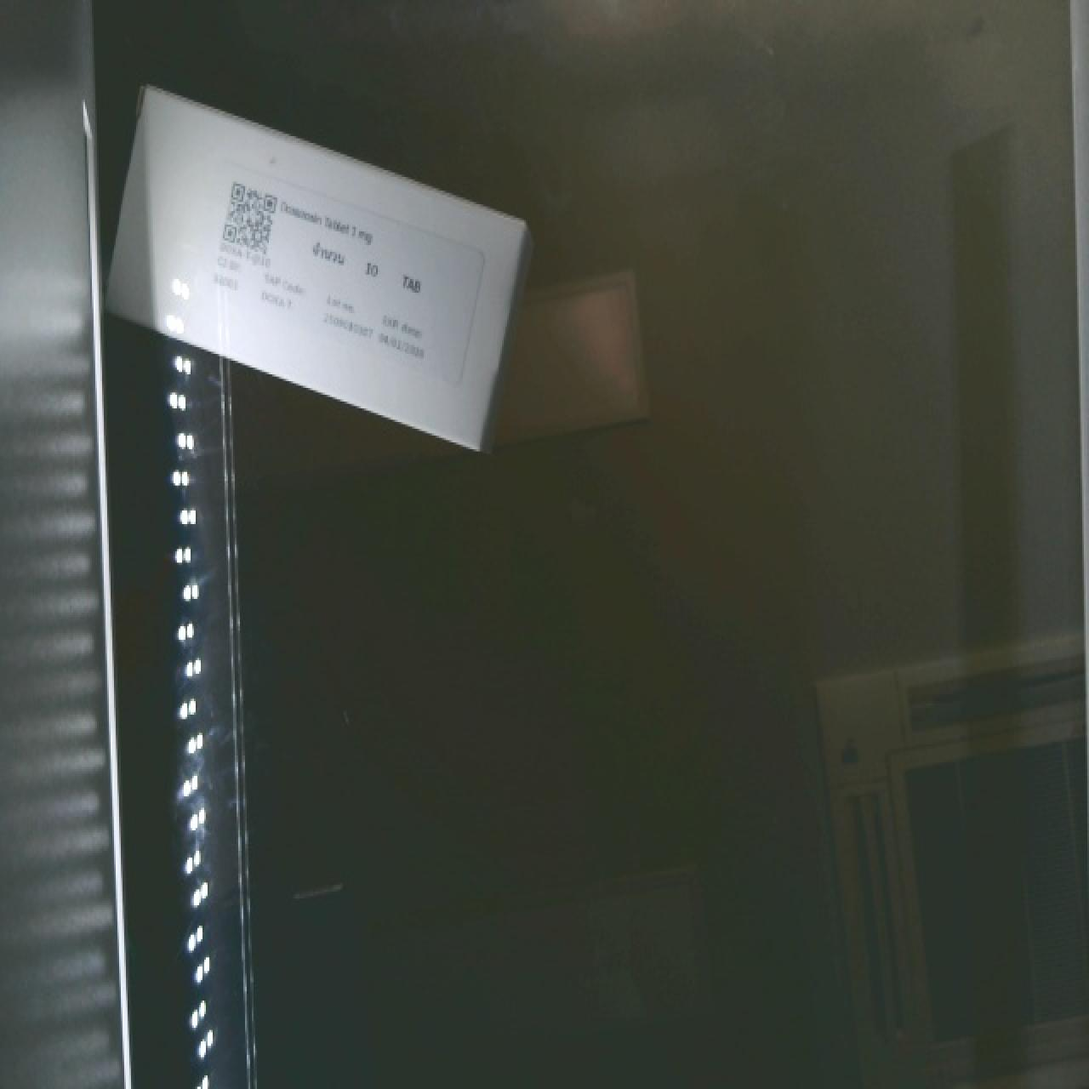qr_code: (200, 167, 295, 277)
